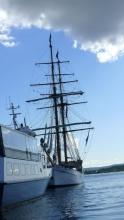fanchuan: (1, 34, 58, 204), (52, 42, 96, 185)
